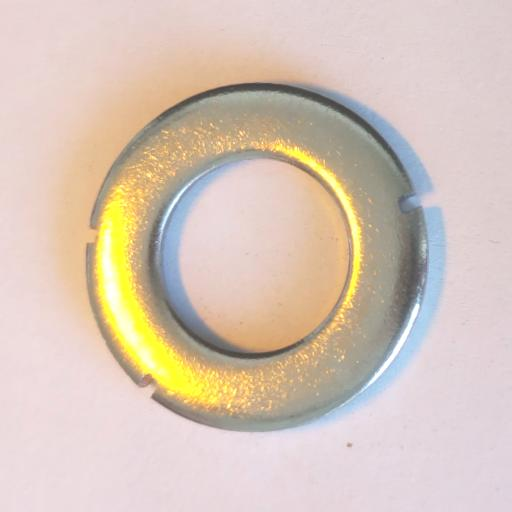burr: (137, 373, 160, 399), (397, 193, 421, 214), (86, 226, 101, 246)
